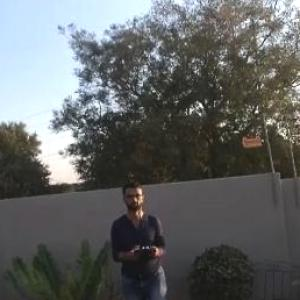follow: (108, 171, 177, 299)
